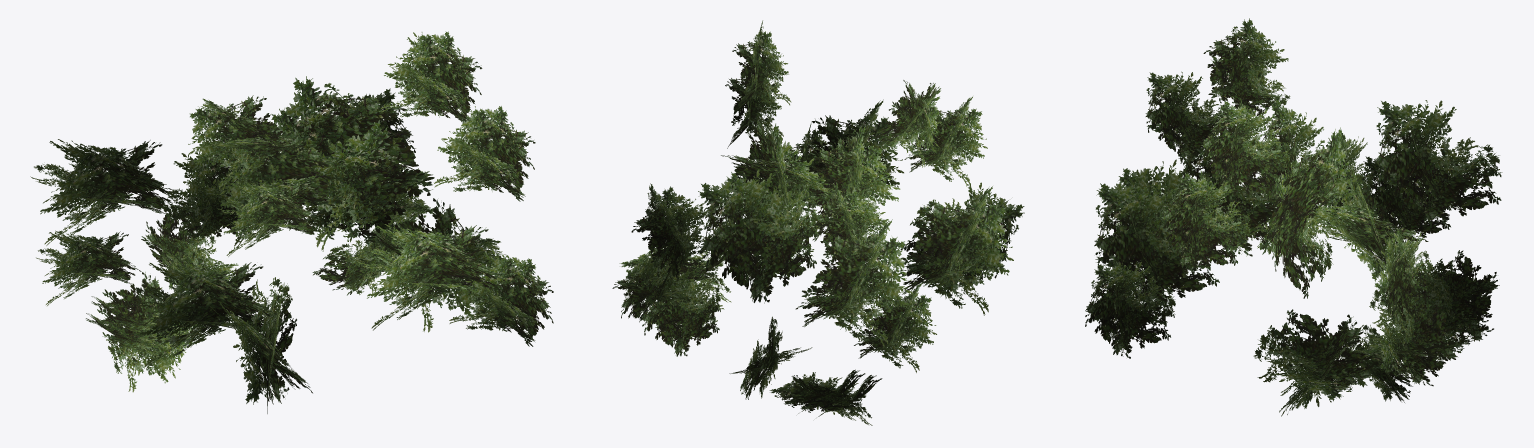
File: Tree_Variant01_Leaves_LOD0.fbx
The picture shows the model from 3 angles, left to right: view 1: azimuth 30°, elevation 25°; view 2: azimuth 150°, elevation 25°; view 3: azimuth 270°, elevation 25°; orthographic projection. The views are drawn at different scales.
Visible parts, largest first — view 1: Leaves_Var_01_LOD0; view 2: Leaves_Var_01_LOD0; view 3: Leaves_Var_01_LOD0.
Boxes of the visible parts, box(x1,y1,x2,y2) form: Leaves_Var_01_LOD0: box(30, 31, 553, 413); Leaves_Var_01_LOD0: box(612, 20, 1024, 425); Leaves_Var_01_LOD0: box(1085, 18, 1502, 416).
Size of the model in its own units: 314 by 269 by 313.
